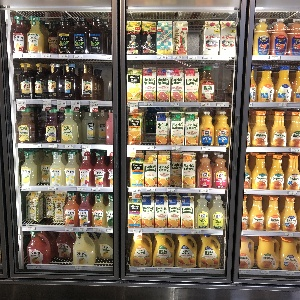void: (214, 61, 233, 102), (187, 20, 205, 55), (95, 65, 112, 100)
